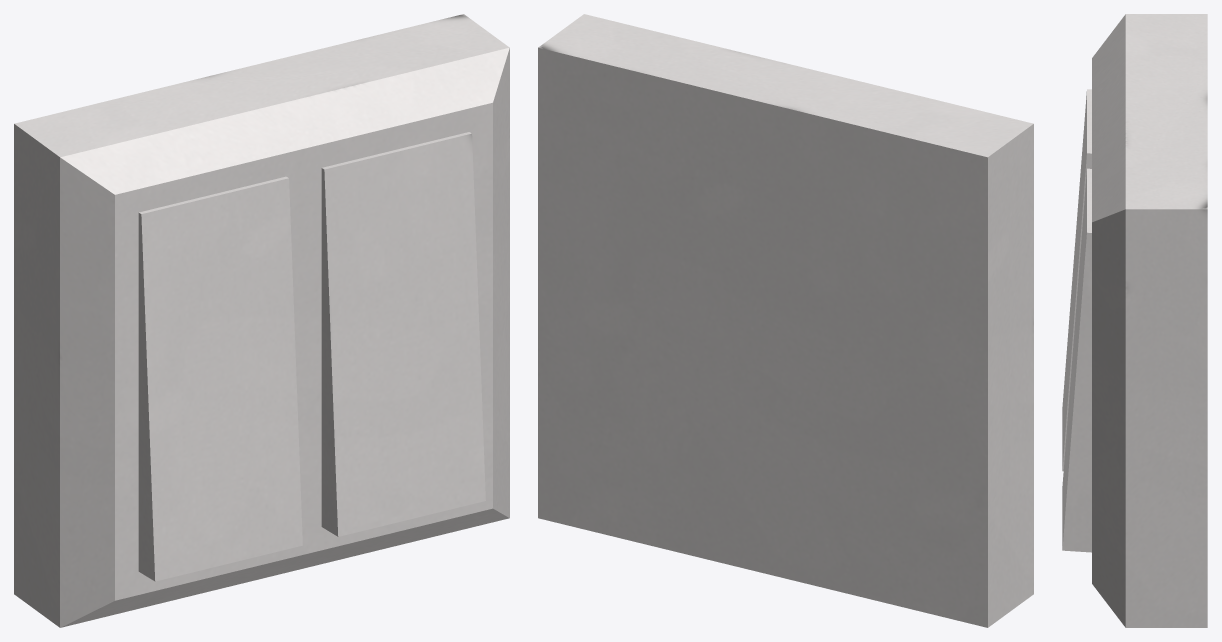
Rendered from LightSwitch.gltf.
3 renders of one model, left to right at view 1: azimuth 30°, elevation 25°; view 2: azimuth 150°, elevation 25°; view 3: azimuth 270°, elevation 25°, orthographic. The views are drawn at different scales.
Parts seen in each view (by area): view 1: switch_body, switch_right, switch_left; view 2: switch_body; view 3: switch_body, switch_right, switch_left.
Boxes of the visible parts, x1,y1,x2,y2 form: switch_body: (14, 14, 509, 627); switch_right: (321, 132, 485, 536); switch_left: (138, 176, 302, 581); switch_body: (538, 14, 1033, 627); switch_body: (1092, 14, 1207, 627); switch_right: (1062, 168, 1091, 552); switch_left: (1062, 89, 1091, 471).
Bounding box in the file's own units: 0.12 × 0.12 × 0.0377.
Materials: 1 (1 with a texture image).
